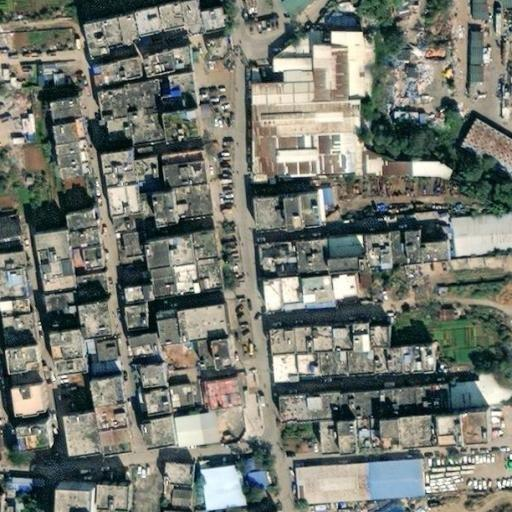building: (251, 33, 451, 179), (451, 118, 512, 178), (90, 378, 135, 456), (446, 206, 512, 254), (290, 462, 365, 504), (36, 233, 77, 296), (4, 21, 76, 52), (362, 459, 416, 500), (193, 464, 239, 509), (385, 417, 440, 453), (64, 414, 103, 461), (279, 396, 342, 424), (185, 308, 231, 345), (255, 242, 300, 278), (45, 291, 83, 331), (170, 413, 212, 449), (101, 154, 140, 192), (50, 326, 88, 364), (120, 82, 159, 119), (161, 76, 197, 114), (126, 113, 164, 148), (36, 56, 80, 86), (450, 248, 512, 269), (272, 328, 316, 357), (87, 306, 120, 344), (205, 380, 243, 413), (165, 112, 202, 145), (14, 383, 47, 419), (340, 392, 381, 420), (167, 164, 208, 192), (249, 196, 282, 230), (389, 105, 439, 127), (298, 242, 330, 276), (2, 315, 34, 349), (105, 188, 140, 219), (380, 390, 418, 418), (145, 419, 175, 454), (55, 483, 91, 512), (131, 333, 167, 361), (7, 416, 40, 446), (281, 193, 308, 229), (152, 240, 180, 274), (75, 273, 105, 304), (86, 24, 111, 61), (6, 345, 39, 372), (175, 236, 201, 270), (416, 386, 445, 416), (54, 120, 86, 147), (362, 422, 388, 455), (322, 425, 347, 458), (207, 410, 232, 443), (469, 376, 498, 404), (98, 90, 125, 120), (305, 279, 336, 305), (282, 429, 317, 452), (50, 100, 82, 125), (328, 237, 364, 259), (136, 159, 160, 192), (20, 138, 45, 169), (278, 278, 301, 311), (196, 234, 219, 267), (135, 11, 162, 39), (175, 268, 201, 297), (153, 271, 179, 300), (182, 3, 204, 37), (270, 355, 296, 383), (334, 277, 362, 303), (209, 339, 235, 367), (158, 6, 186, 32), (0, 209, 22, 242), (198, 264, 223, 293), (465, 416, 487, 448), (163, 321, 189, 348), (102, 116, 129, 142), (148, 52, 177, 76), (94, 64, 123, 88), (344, 424, 365, 457), (56, 359, 90, 379), (111, 232, 137, 258), (144, 390, 170, 416), (317, 352, 344, 377), (69, 213, 99, 235), (109, 215, 142, 235), (354, 327, 378, 354), (163, 463, 187, 490), (122, 287, 151, 309), (164, 154, 205, 169), (104, 491, 133, 512), (120, 18, 141, 47), (343, 353, 370, 375), (401, 347, 422, 375), (73, 230, 101, 251), (105, 21, 125, 50), (295, 354, 319, 378), (263, 281, 281, 313), (314, 327, 335, 354), (192, 342, 213, 369), (419, 242, 447, 262), (402, 232, 420, 263), (333, 328, 356, 352), (125, 306, 148, 330), (201, 10, 224, 34), (202, 39, 226, 62), (362, 235, 391, 254), (84, 361, 113, 380), (118, 60, 141, 83), (166, 383, 188, 407), (364, 252, 395, 269), (8, 370, 39, 387), (132, 485, 151, 512), (92, 341, 114, 364), (0, 254, 25, 274), (332, 256, 365, 271), (385, 349, 403, 376), (76, 249, 97, 271), (461, 31, 475, 64), (163, 199, 182, 223), (58, 142, 84, 159), (443, 420, 465, 440), (163, 490, 186, 509), (390, 234, 404, 264), (60, 155, 86, 171), (62, 166, 88, 182), (238, 468, 262, 485), (143, 368, 164, 387), (461, 64, 473, 96), (7, 479, 36, 492), (372, 349, 387, 374), (0, 186, 16, 209), (174, 49, 191, 69), (322, 13, 347, 26), (161, 311, 185, 324), (313, 190, 327, 212), (423, 348, 435, 372), (376, 328, 389, 349), (90, 120, 102, 141), (131, 393, 142, 412), (464, 6, 480, 19), (445, 440, 465, 450), (164, 222, 183, 231), (236, 457, 247, 472), (486, 53, 493, 73), (493, 0, 509, 7), (493, 100, 499, 118), (305, 503, 317, 512), (465, 0, 480, 7), (6, 502, 16, 512), (157, 509, 183, 512), (18, 132, 25, 140)
